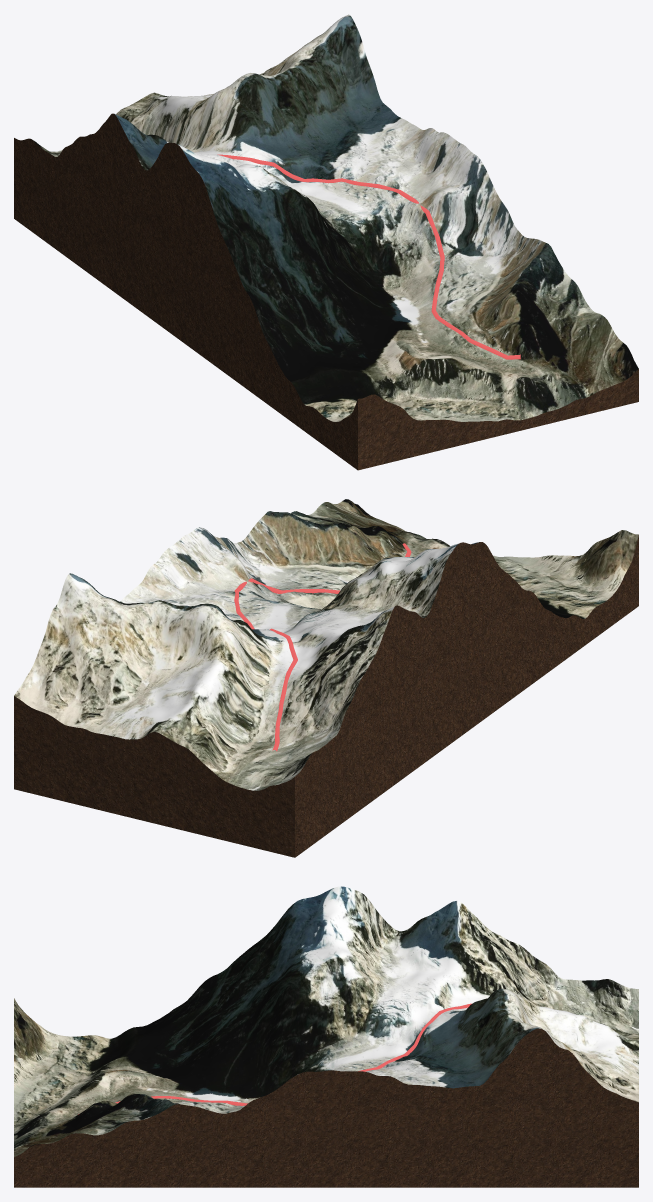
The picture shows the model from 3 angles, top to bottom: view 1: azimuth 30°, elevation 25°; view 2: azimuth 150°, elevation 25°; view 3: azimuth 270°, elevation 25°; orthographic projection. The views are drawn at different scales.
Parts seen in each view (by area): view 1: mesh, sideE, sideN, defaultPath; view 2: mesh, sideE, sideS, defaultPath; view 3: mesh, sideW, defaultPath.
Boxes of the visible parts, box(x1,y1,x2,y2) form: mesh: box(31, 14, 638, 421); sideE: box(14, 113, 357, 470); sideN: box(358, 369, 638, 470); defaultPath: box(217, 154, 520, 359); mesh: box(14, 499, 638, 790); sideE: box(295, 535, 638, 857); sideS: box(14, 696, 294, 857); defaultPath: box(234, 543, 411, 751); mesh: box(14, 886, 638, 1157); sideW: box(14, 1028, 638, 1187); defaultPath: box(78, 1003, 471, 1114).
Size of the model in its own units: 14.15 by 9.34 by 30.
Materials: 4 (2 with a texture image).
